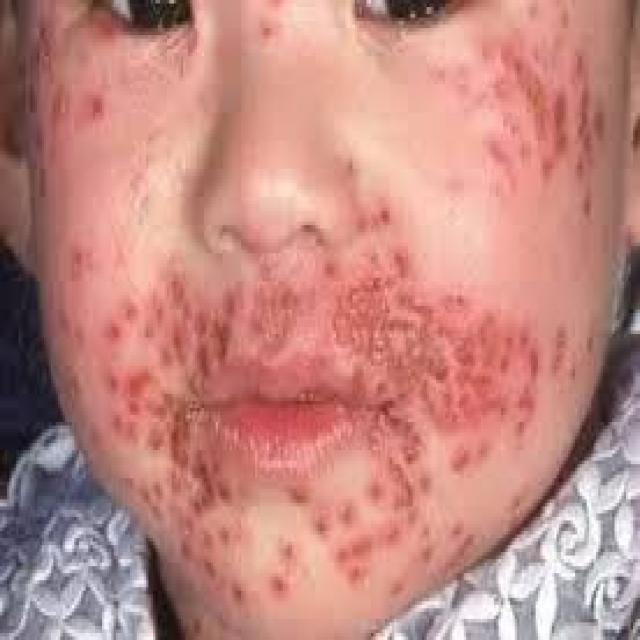Eczema: (50, 249, 548, 554), (435, 60, 609, 218), (29, 43, 106, 187)
